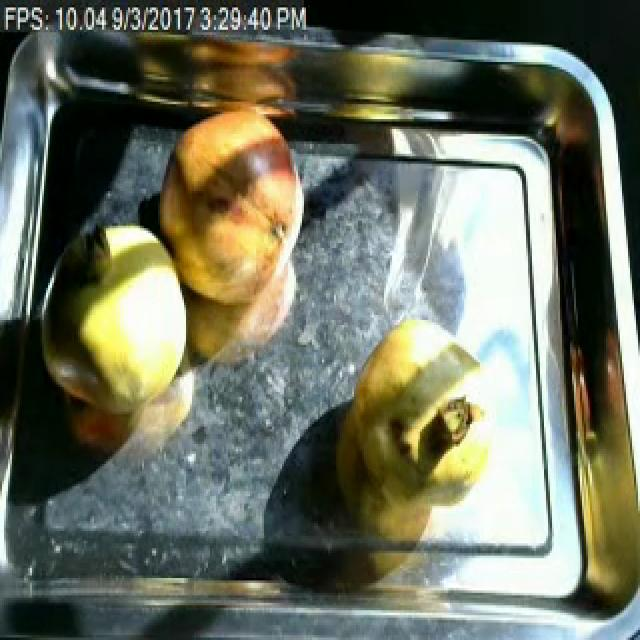fruit: (26, 201, 216, 437), (146, 99, 312, 318), (342, 307, 506, 503)
